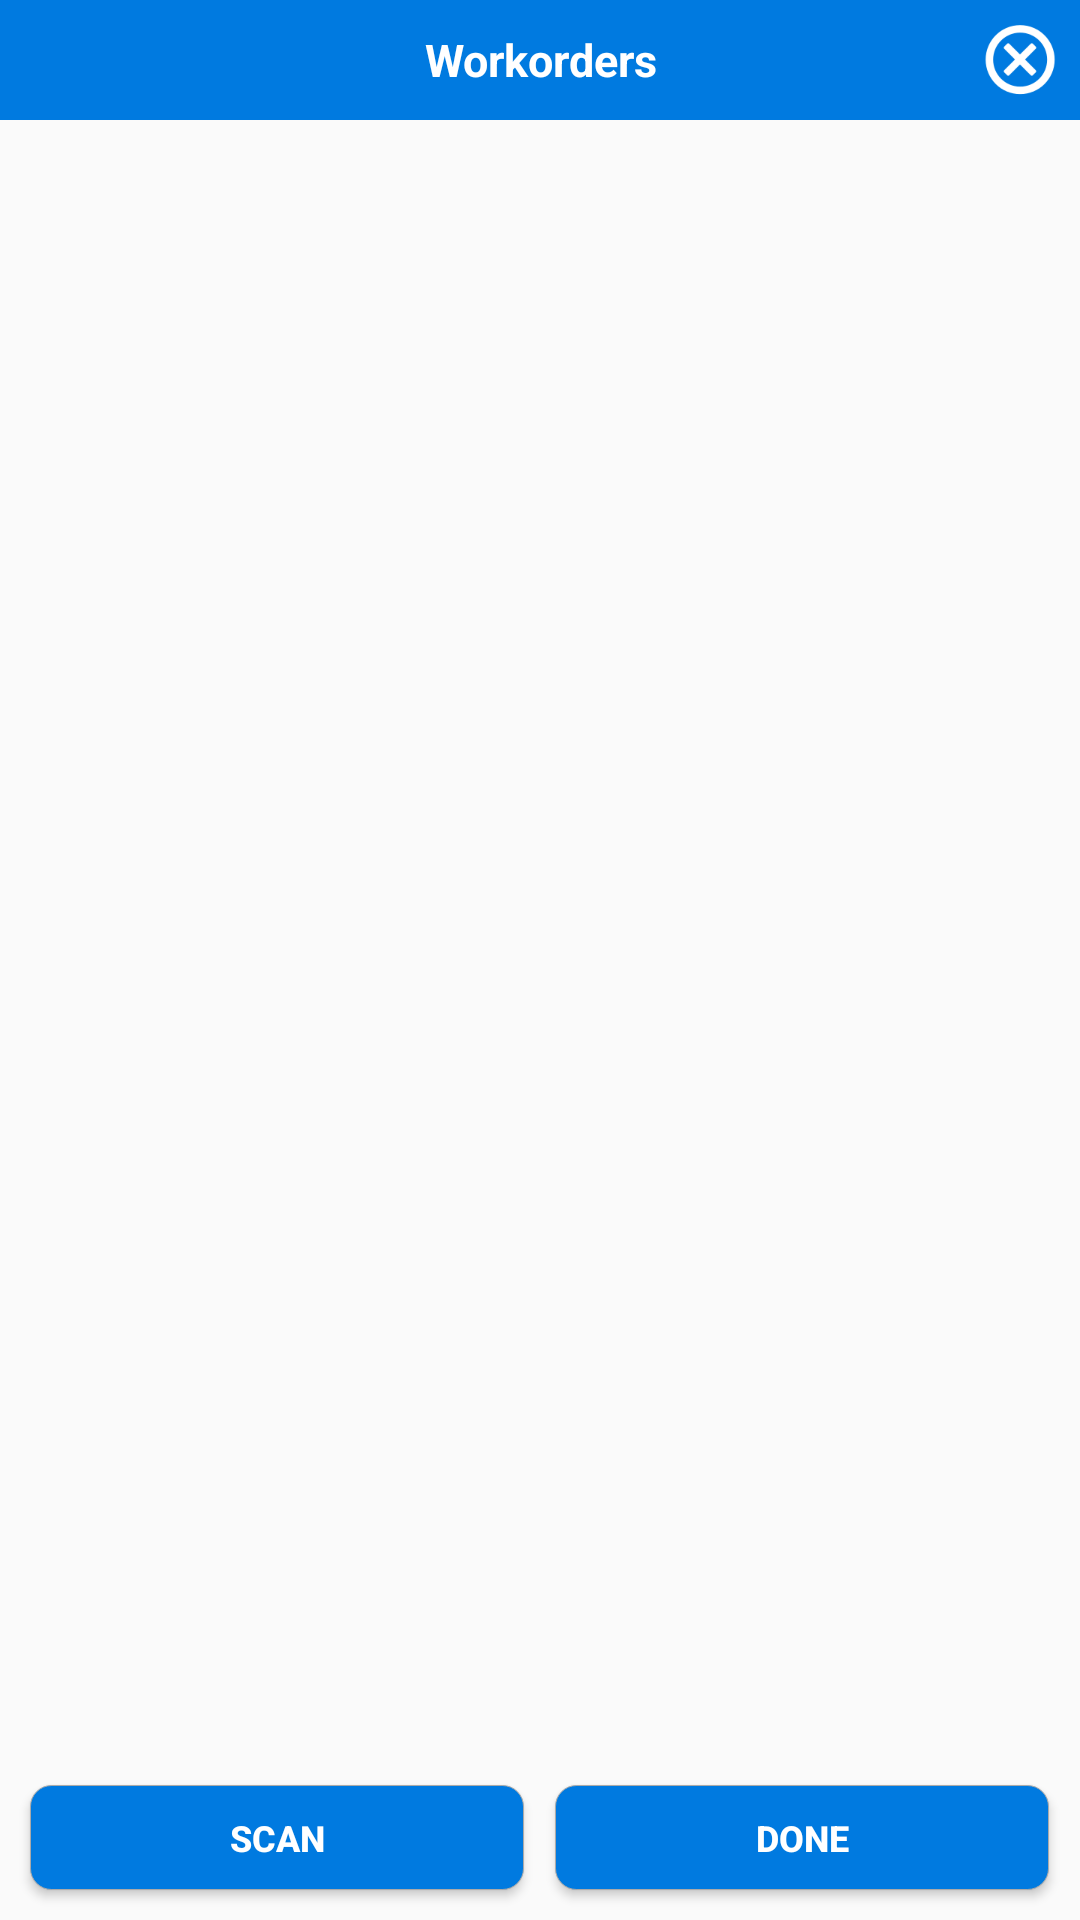

Icon click points for this 1080×1920 phone screenshot, format (x=x, y=y):
cancel: (x=1020, y=60)
